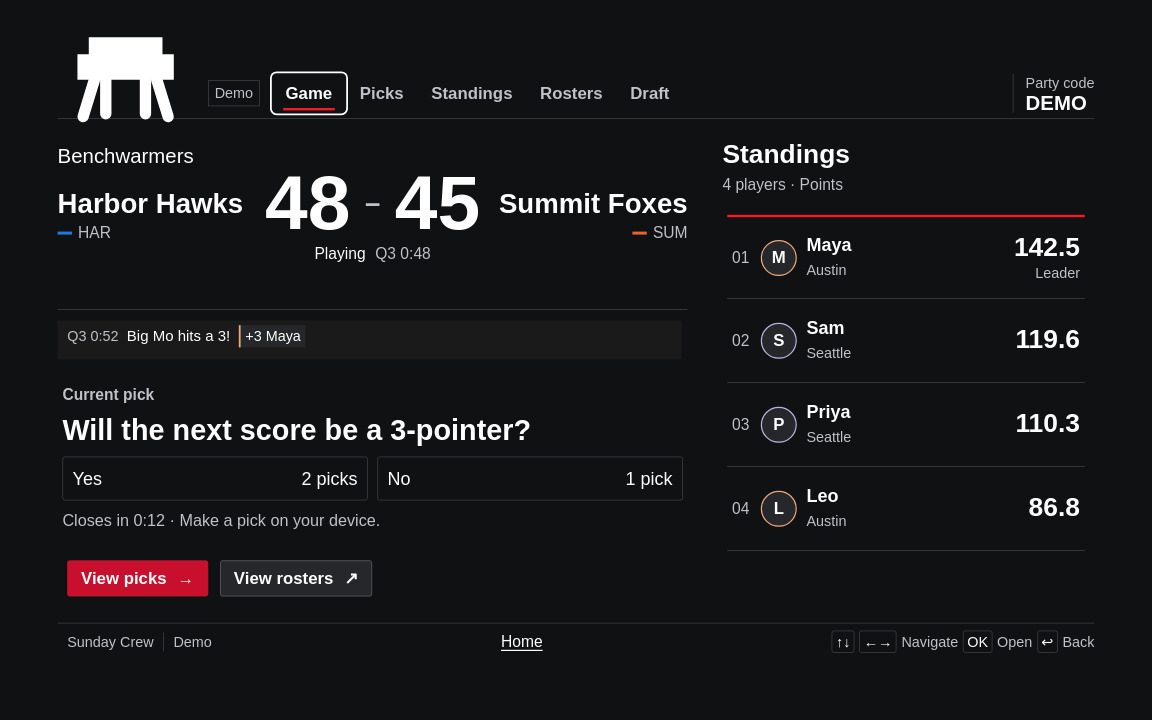
Test: TvPage › preserves a manually opened roster through party phase changes
What coordinates should you click on to do the following:
click the button "Rosters"
I would click on:
 (571, 93)
Its box is [529,75,614,111].
Wait 20000 ms
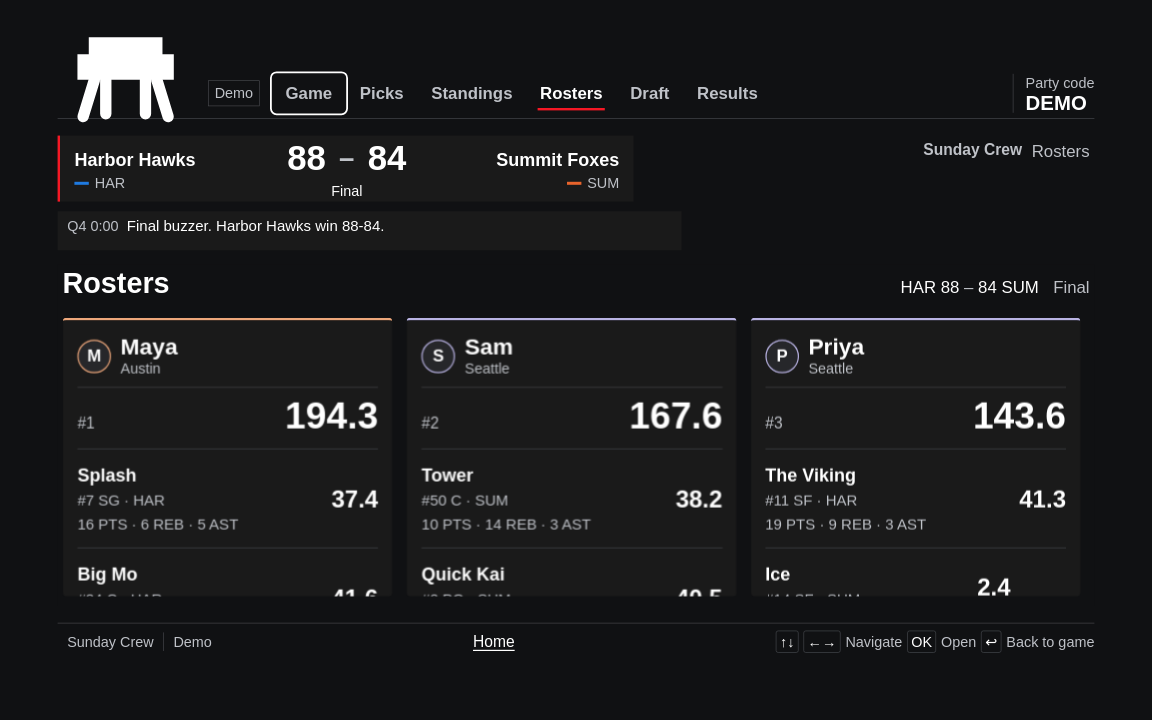
Now the element with class "tv-rosters" is shown, box [62,269,1090,601]
